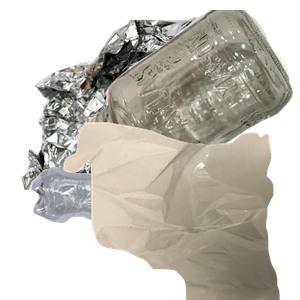glass: (86, 10, 300, 184)
metal: (19, 14, 259, 194)
plastic: (29, 165, 227, 300)
trash: (61, 120, 300, 300)
